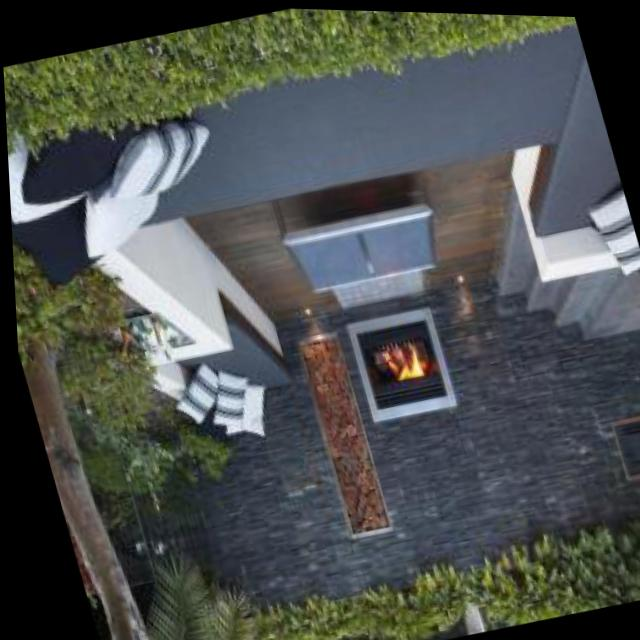Fire: (371, 328, 428, 391)
